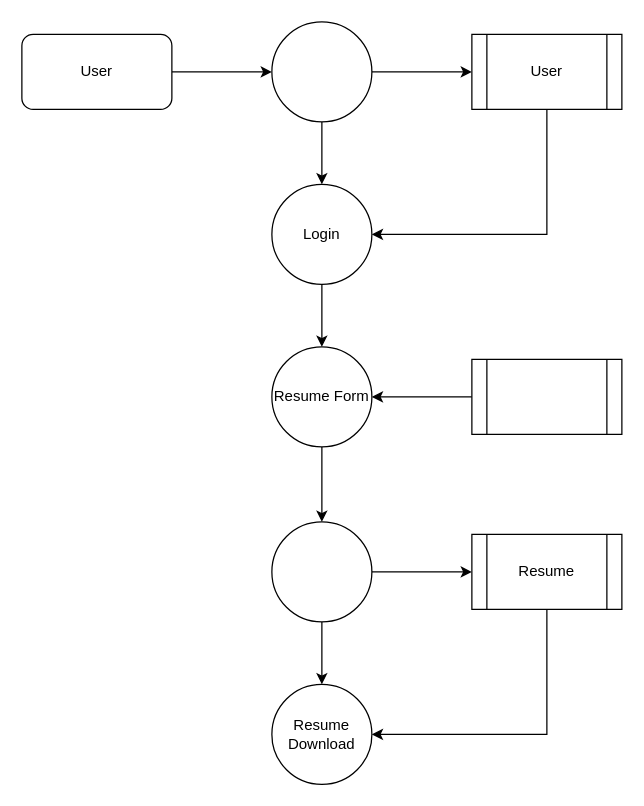
Some shapes in this 644 by 806 pixel diagram are drawn without their labels. Each missing label, with the centre of its shape:
"Form" goes at (x=546, y=396).
"Resume Template" goes at (x=321, y=571).
"User Registration" goes at (x=321, y=71).
